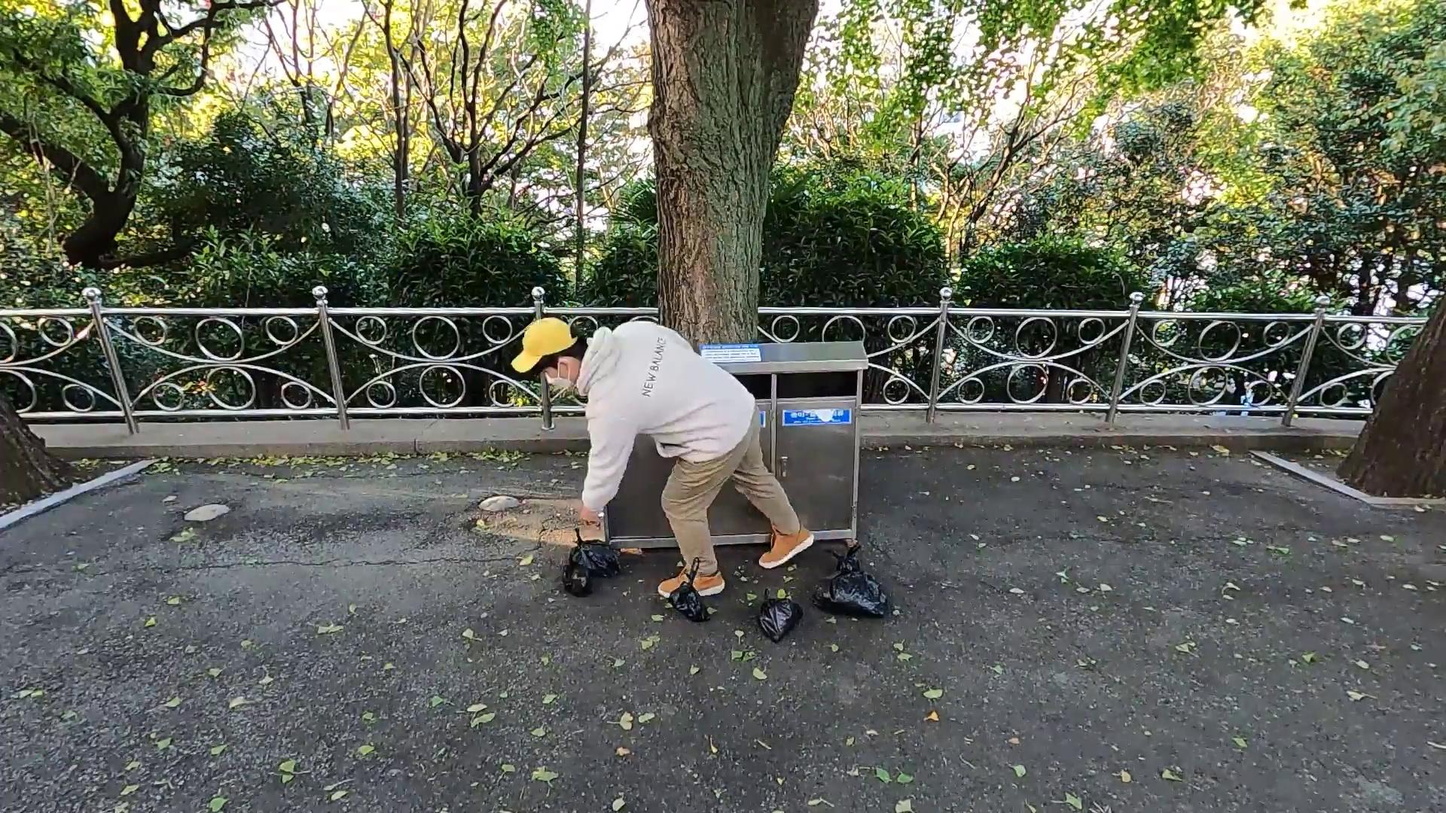person: (511, 315, 818, 596)
trash: (813, 544, 891, 620), (668, 561, 712, 622), (756, 589, 804, 643), (567, 529, 621, 575), (560, 558, 594, 596)
